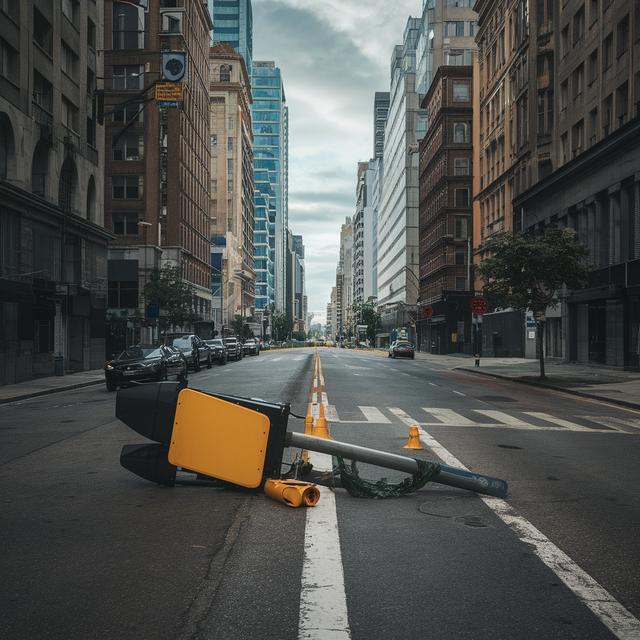Inclined Pole: (109, 358, 518, 514)
